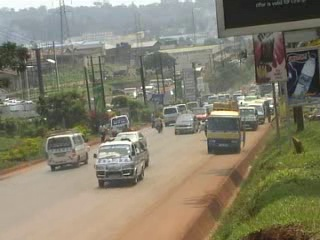Car: (115, 128, 149, 151), (170, 112, 198, 135), (187, 105, 209, 127)
Motorcycle: (152, 116, 163, 133), (121, 122, 134, 134)
